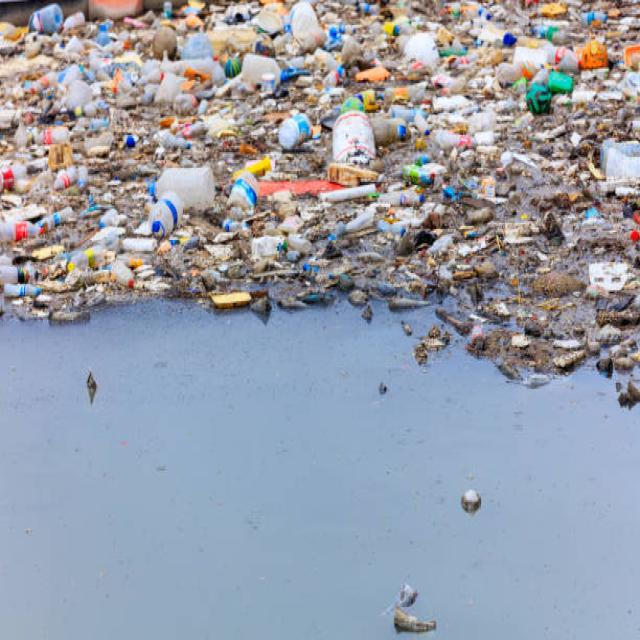plastic: (57, 36, 544, 237)
